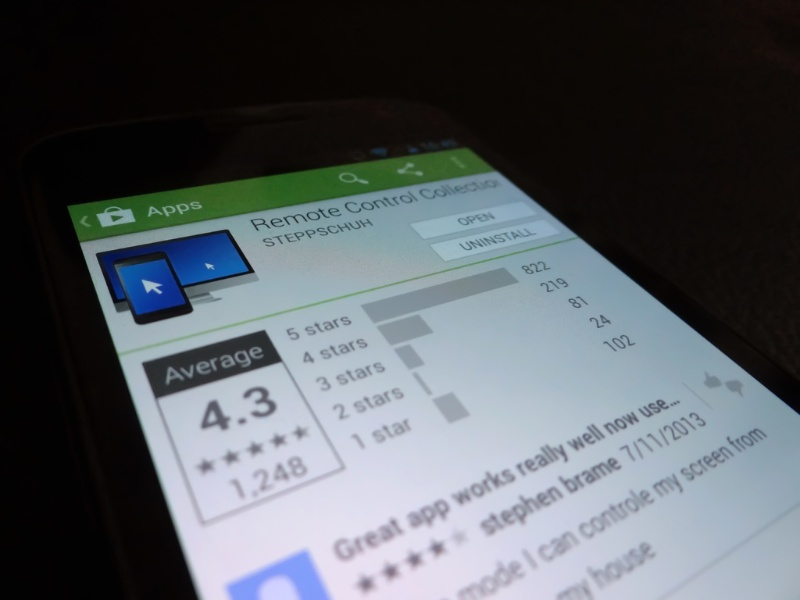cellphone: (23, 120, 800, 598)
